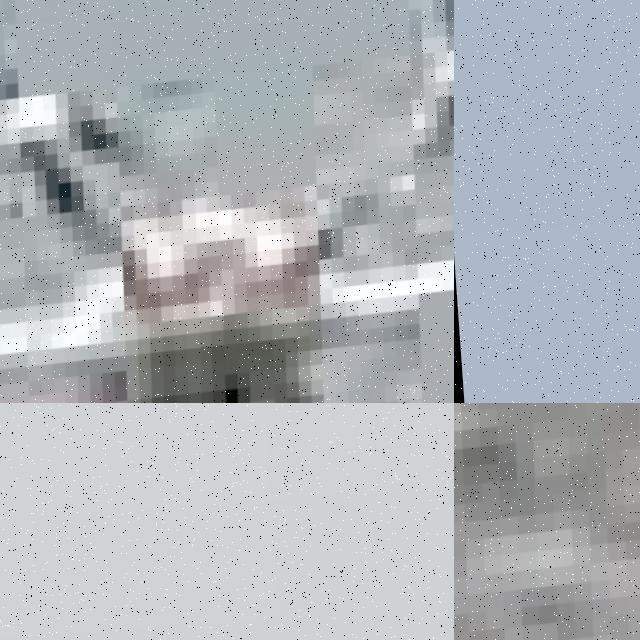0: (0, 0, 454, 403)
drone: (454, 403, 640, 640)
